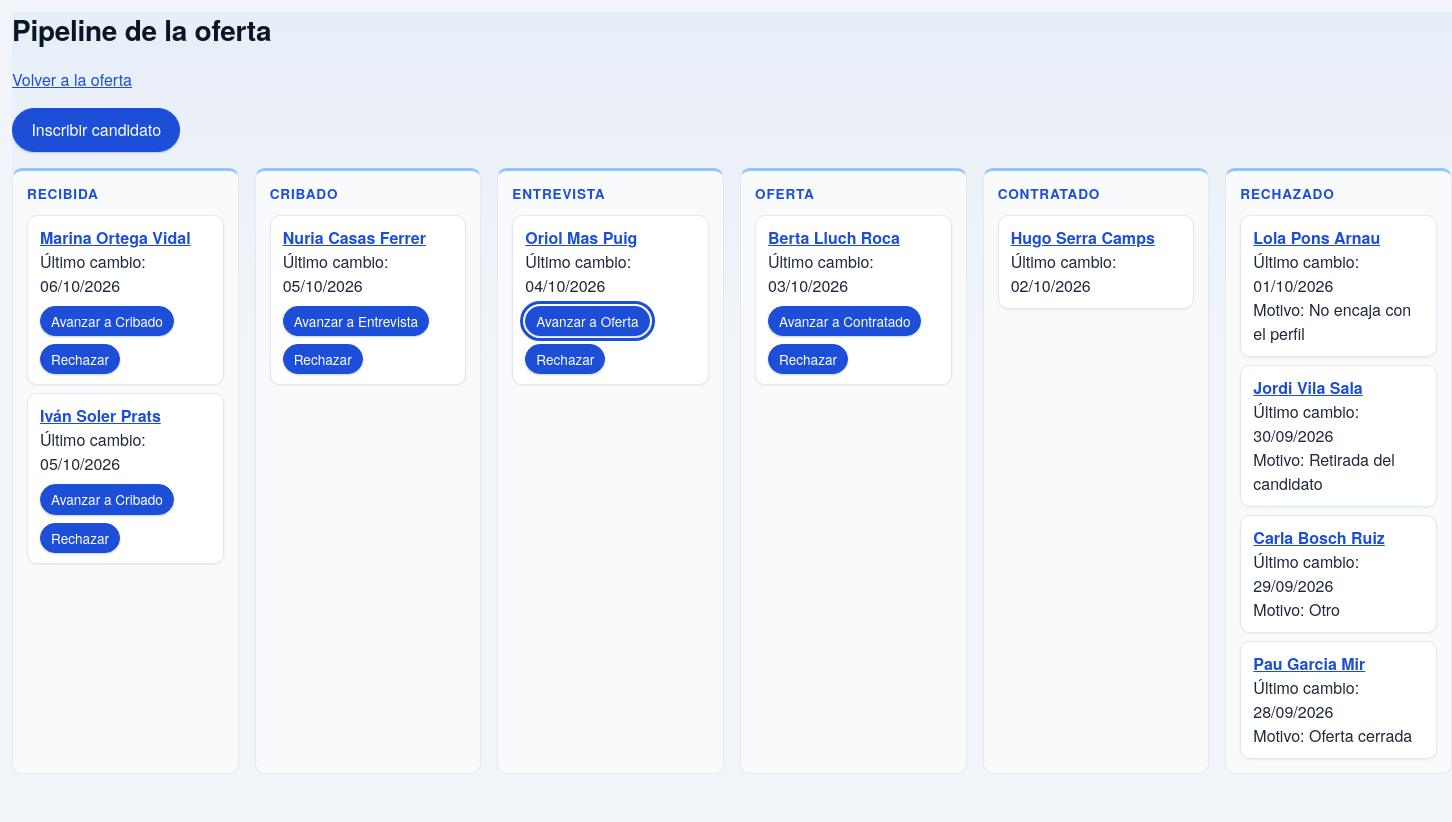
Test: PipelineScreen: avanzar de etapa › EC-33 409 STAGE_MISMATCH → texto de DT-06, foco en la alerta y recarga
Step 1. Click the button named "Avanzar a Oferta: Oriol Mas Puig" → (587, 321), box [525, 306, 650, 336]
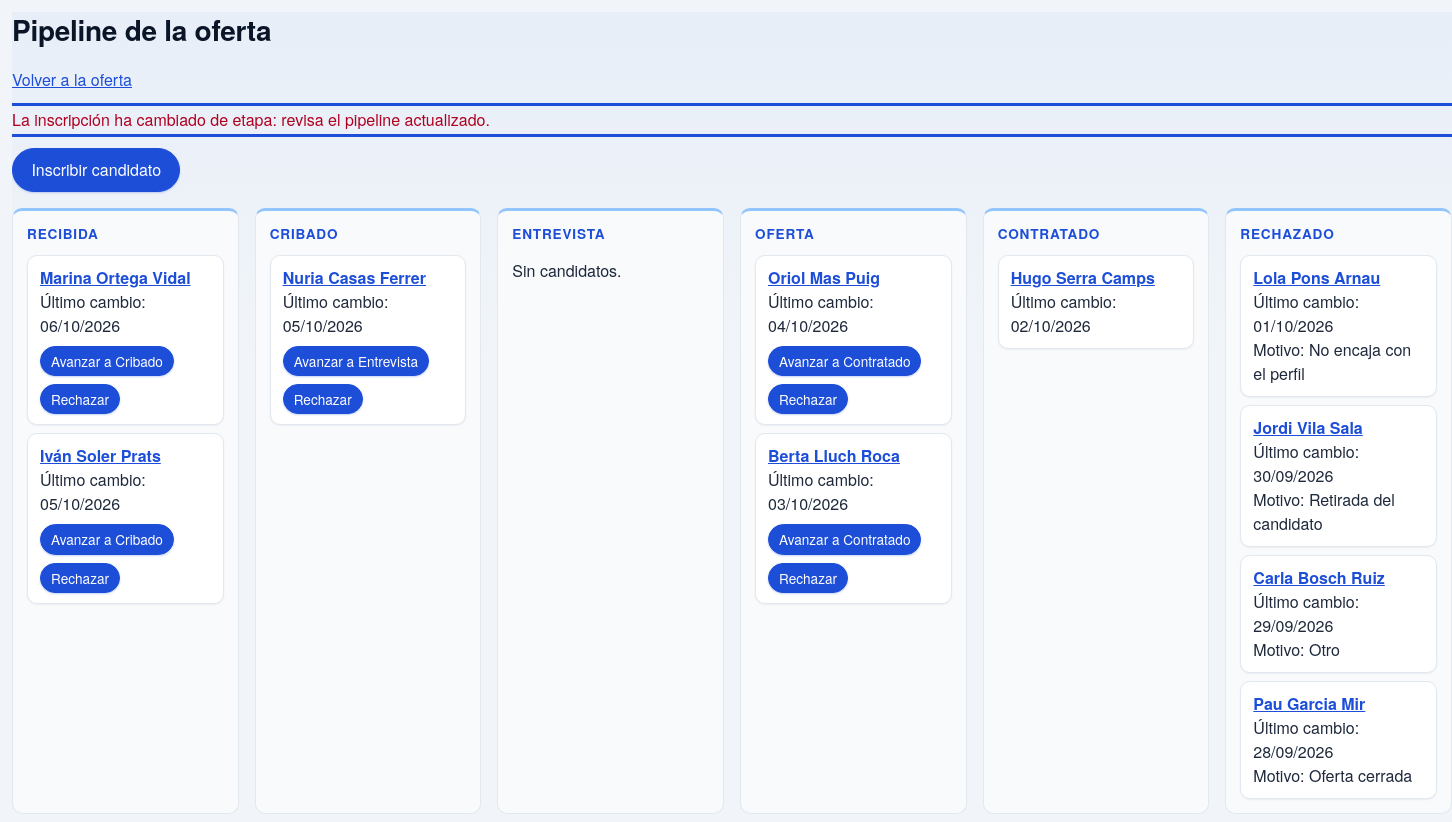
Expected: the link "Oriol Mas Puig" is shown, [768, 266, 880, 289]
Expected: the message reads "La inscripción ha cambiado de etapa: revisa el pipeline actualizado.", [12, 108, 490, 131]
